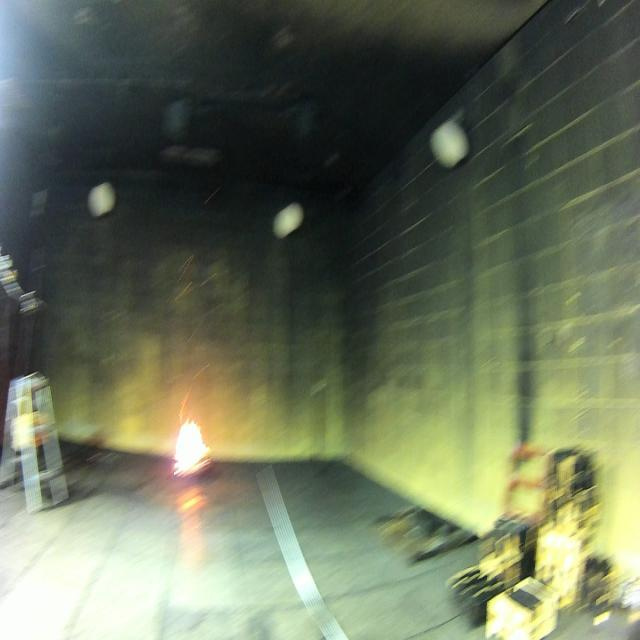Fire: (173, 416, 212, 478)
